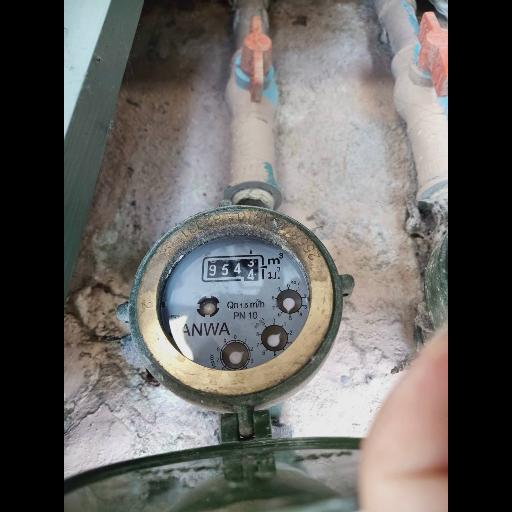3: (243, 259, 259, 282)
4: (231, 259, 244, 277)
5: (219, 261, 232, 278)
9: (207, 260, 219, 278)
border_water_meter_number: (202, 254, 265, 282)
